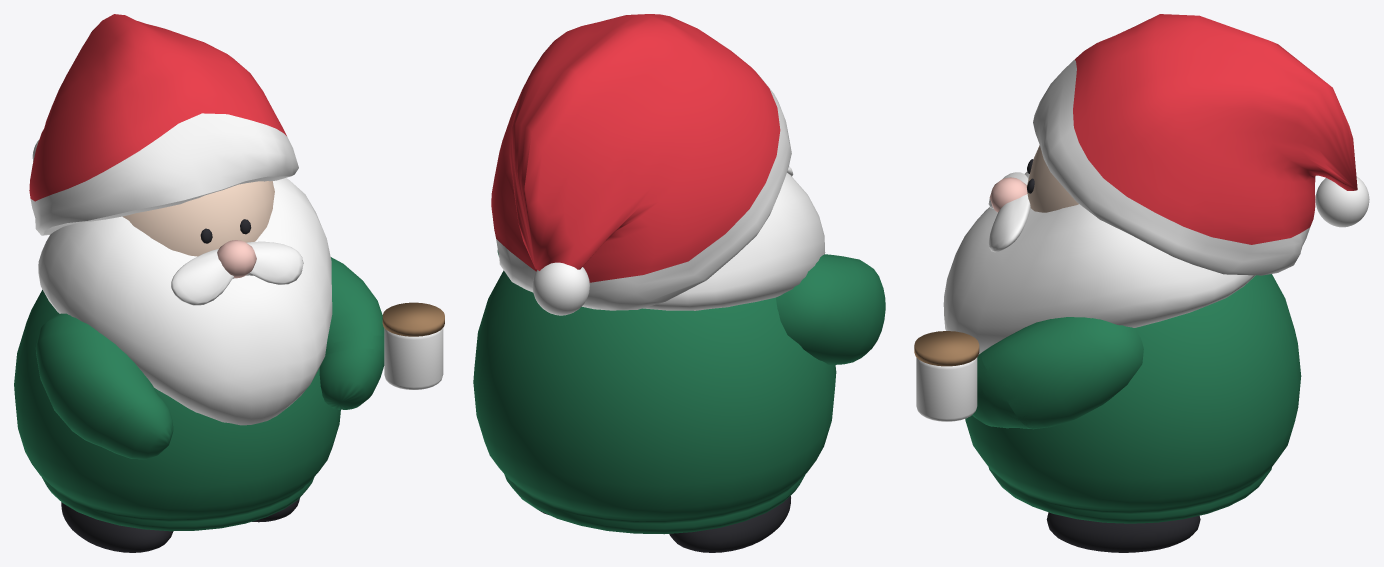
Rendered from barista.glb.
3 renders of one model, left to right at view 1: azimuth 30°, elevation 25°; view 2: azimuth 150°, elevation 25°; view 3: azimuth 270°, elevation 25°, orthographic. The views are drawn at different scales.
Parts seen in each view (by area): view 1: barista_white, barista_darkgreen, barista_red, barista_skin, barista_black, barista_brown, barista_nose; view 2: barista_darkgreen, barista_red, barista_white, barista_black; view 3: barista_darkgreen, barista_red, barista_white, barista_black, barista_brown, barista_skin, barista_nose.
Boxes of the visible parts, x1=… form: barista_white: x1=30, y1=113, x2=443, y2=425; barista_darkgreen: x1=14, y1=257, x2=384, y2=531; barista_red: x1=29, y1=14, x2=286, y2=201; barista_skin: x1=123, y1=181, x2=274, y2=256; barista_black: x1=61, y1=219, x2=299, y2=552; barista_brown: x1=382, y1=302, x2=444, y2=336; barista_nose: x1=217, y1=240, x2=256, y2=278; barista_darkgreen: x1=473, y1=250, x2=885, y2=534; barista_red: x1=491, y1=14, x2=780, y2=282; barista_white: x1=496, y1=72, x2=825, y2=315; barista_black: x1=539, y1=496, x2=790, y2=552; barista_darkgreen: x1=965, y1=274, x2=1301, y2=523; barista_red: x1=1073, y1=14, x2=1357, y2=244; barista_white: x1=916, y1=60, x2=1369, y2=421; barista_black: x1=1027, y1=159, x2=1200, y2=552; barista_brown: x1=914, y1=331, x2=979, y2=366; barista_skin: x1=1026, y1=145, x2=1078, y2=212; barista_nose: x1=989, y1=177, x2=1027, y2=212.
Bounding box in the file's own units: 2.23 × 2.98 × 2.53.
